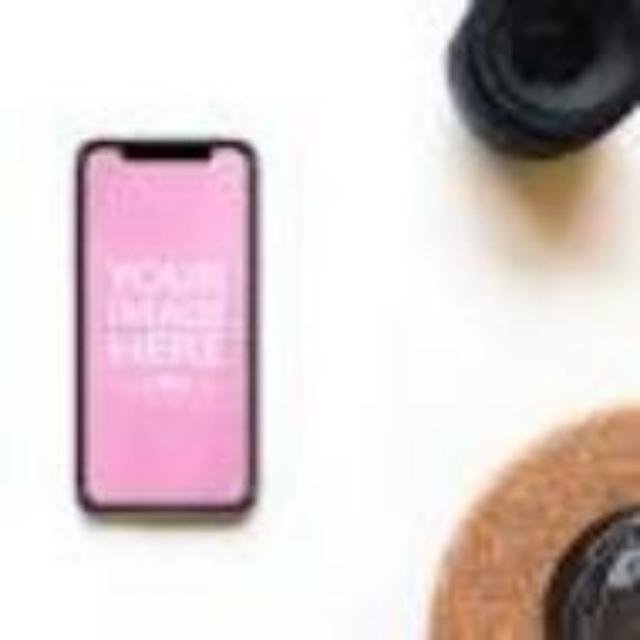phone: (73, 130, 261, 515)
